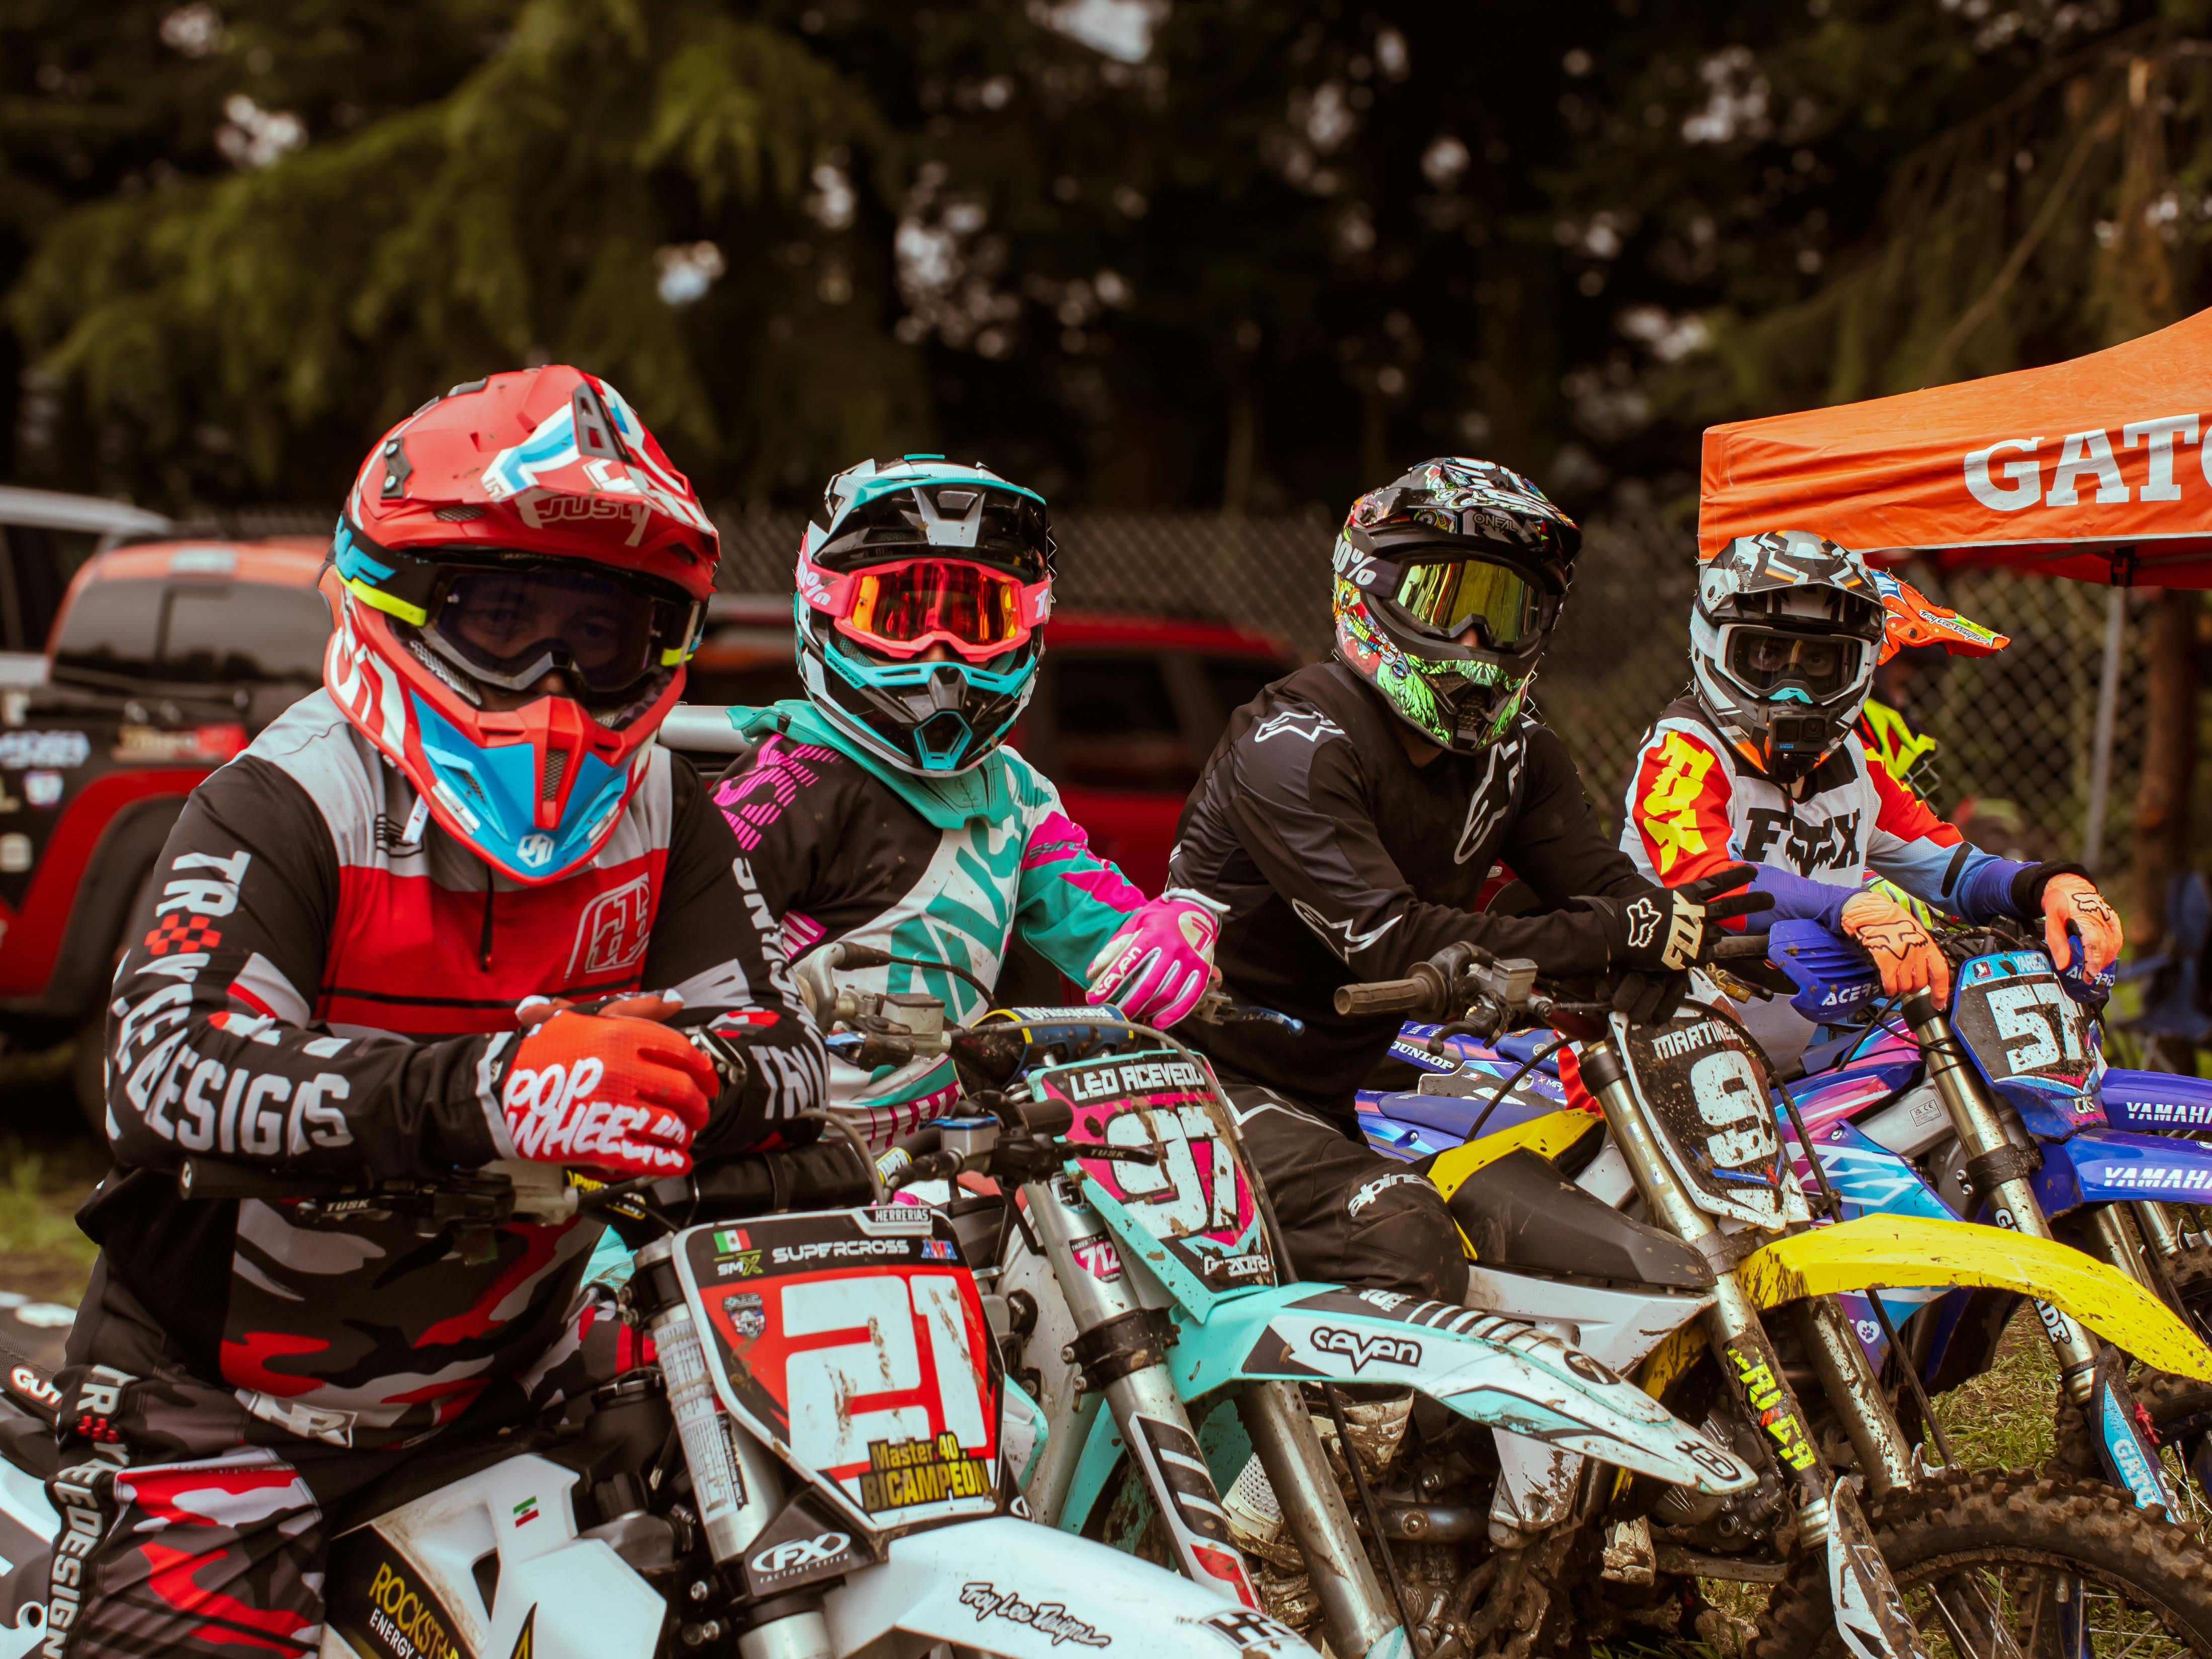capacete: (317, 361, 726, 894), (786, 455, 1066, 784), (1327, 451, 1581, 760), (1688, 526, 1886, 786)
